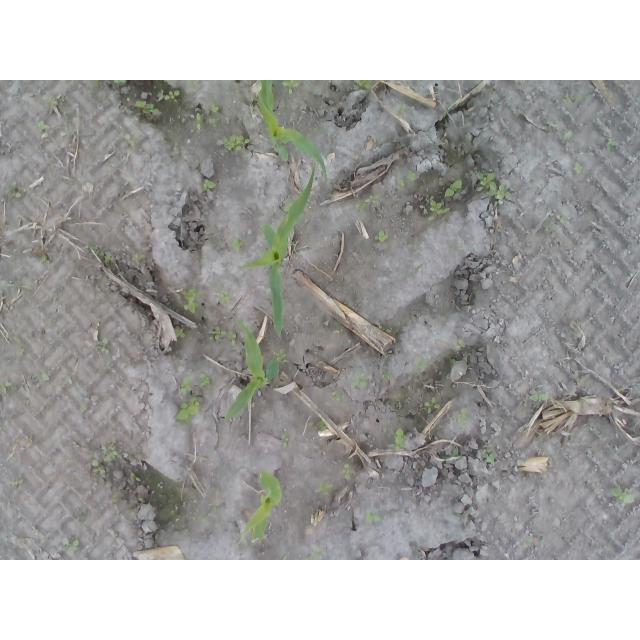Maize: (239, 168, 313, 340), (256, 81, 331, 182), (223, 320, 281, 421), (245, 471, 284, 541)
Weeds: (174, 367, 214, 425), (470, 167, 514, 205), (88, 437, 125, 479), (418, 196, 450, 225), (195, 101, 222, 130), (206, 322, 238, 345), (607, 483, 638, 505), (222, 133, 256, 152), (133, 99, 163, 118), (444, 175, 465, 197), (184, 287, 201, 314), (351, 367, 370, 389), (399, 170, 418, 190), (423, 396, 441, 417), (356, 194, 377, 211), (393, 428, 408, 451), (83, 243, 106, 258), (282, 80, 303, 96), (159, 89, 181, 104), (62, 536, 80, 554), (303, 548, 329, 560), (239, 528, 257, 545), (483, 444, 497, 465), (376, 321, 400, 333), (457, 407, 472, 425), (339, 462, 353, 481), (7, 187, 26, 201), (318, 481, 335, 496), (216, 289, 233, 304), (230, 237, 247, 252), (202, 179, 219, 194), (275, 348, 289, 365), (394, 105, 411, 119), (352, 81, 373, 92), (131, 255, 154, 265), (374, 229, 390, 243), (48, 96, 65, 109), (176, 106, 189, 123), (98, 337, 111, 354), (563, 95, 585, 105), (170, 505, 182, 523), (195, 513, 209, 528), (19, 435, 34, 449), (34, 120, 50, 133), (0, 381, 16, 394), (32, 370, 49, 382), (415, 358, 433, 369), (368, 511, 385, 522), (606, 137, 618, 152), (223, 80, 233, 97), (448, 357, 465, 367), (329, 391, 344, 402), (175, 327, 190, 338), (527, 392, 545, 401), (544, 119, 560, 129), (0, 279, 16, 289), (128, 134, 140, 146), (316, 419, 329, 430), (208, 505, 222, 515), (280, 432, 288, 449), (184, 80, 201, 88), (80, 400, 88, 417), (1, 304, 16, 313), (383, 371, 396, 381), (563, 131, 574, 142), (129, 472, 141, 482), (9, 479, 24, 487), (455, 339, 466, 349), (392, 390, 401, 402), (542, 223, 554, 232), (575, 162, 584, 174), (259, 128, 265, 145), (103, 255, 113, 265), (584, 423, 594, 433), (281, 204, 292, 213), (112, 80, 128, 86), (560, 215, 569, 225), (39, 256, 49, 265), (452, 446, 460, 457), (110, 495, 118, 505), (440, 107, 449, 113), (310, 128, 320, 133), (631, 431, 640, 436), (560, 427, 568, 432)
